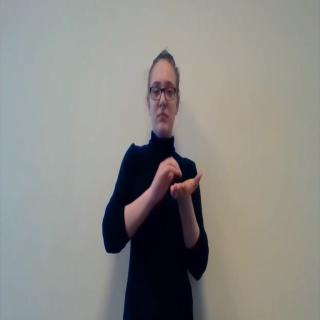ExcuseMe: (105, 48, 208, 314)
